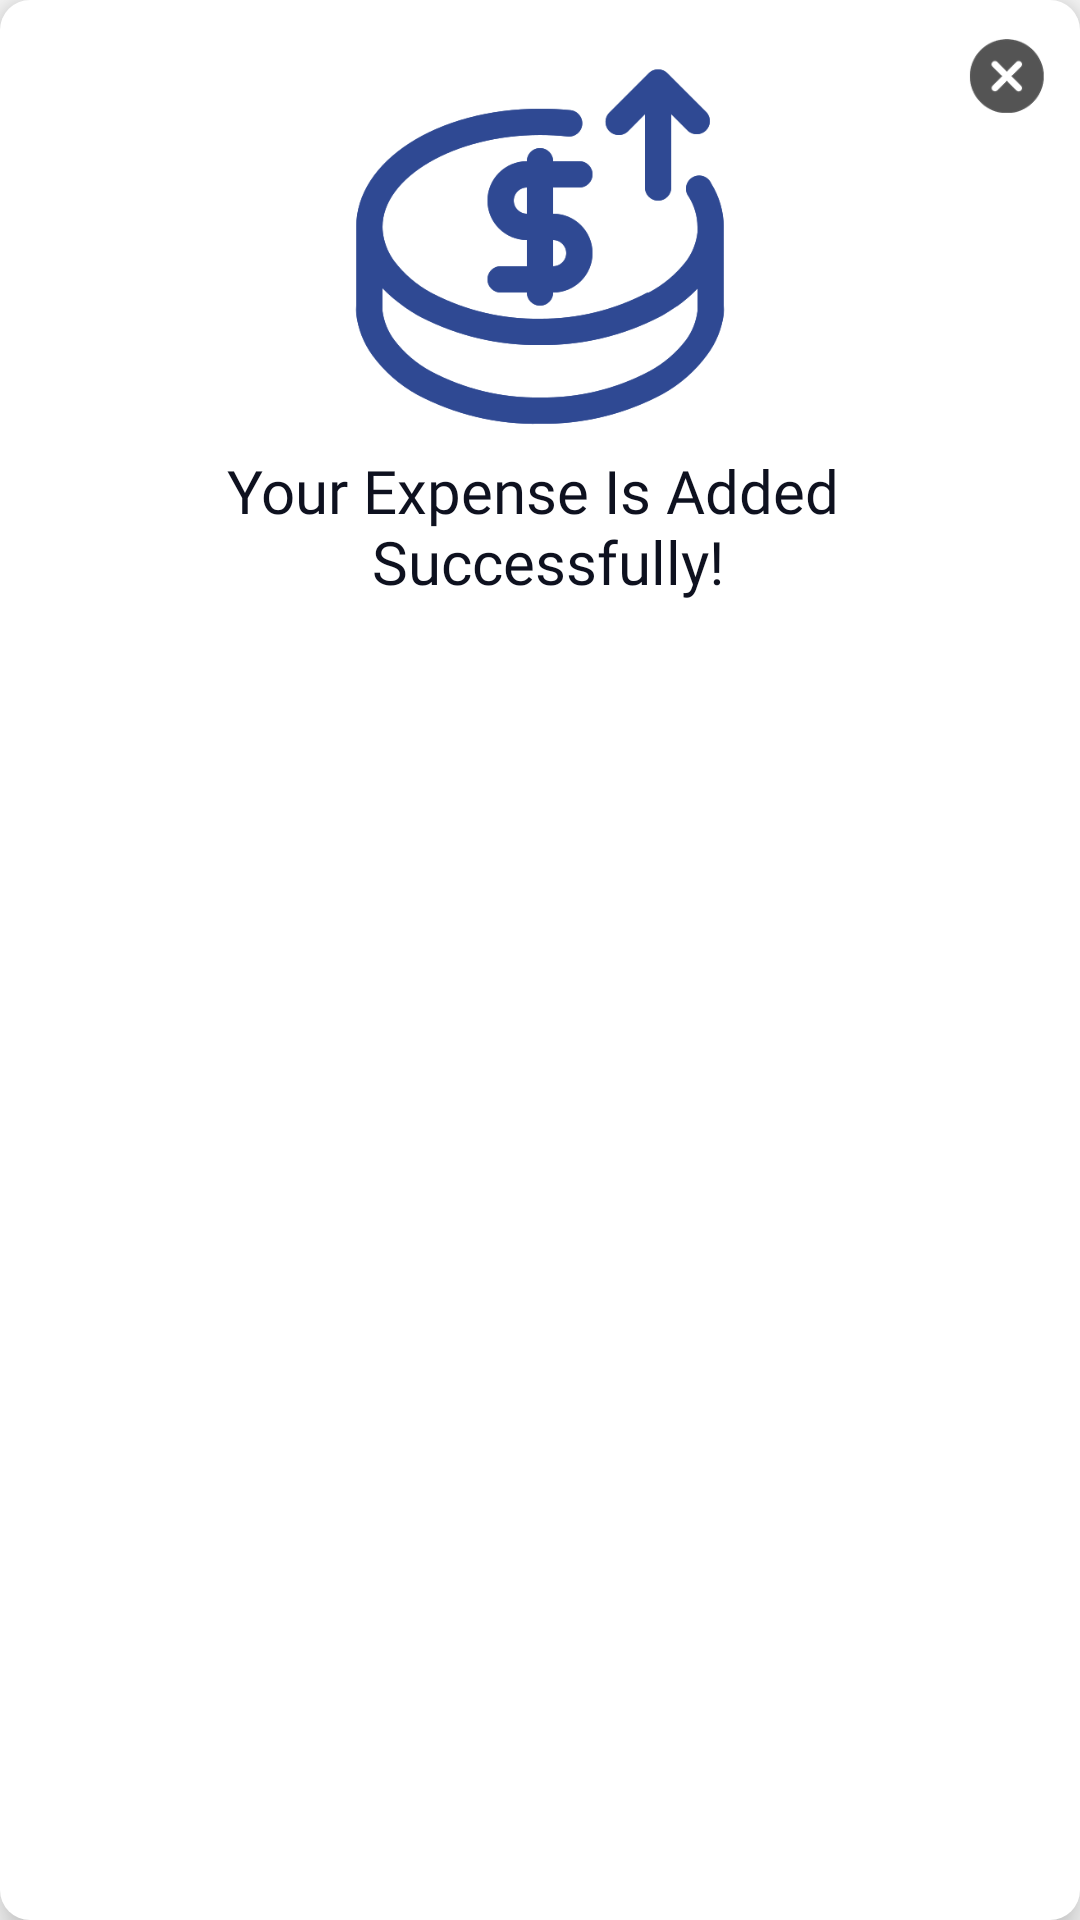

Icons on this 1080px×1920px Android screen, each with the point to tap as (x,y):
close: (1007,76)
